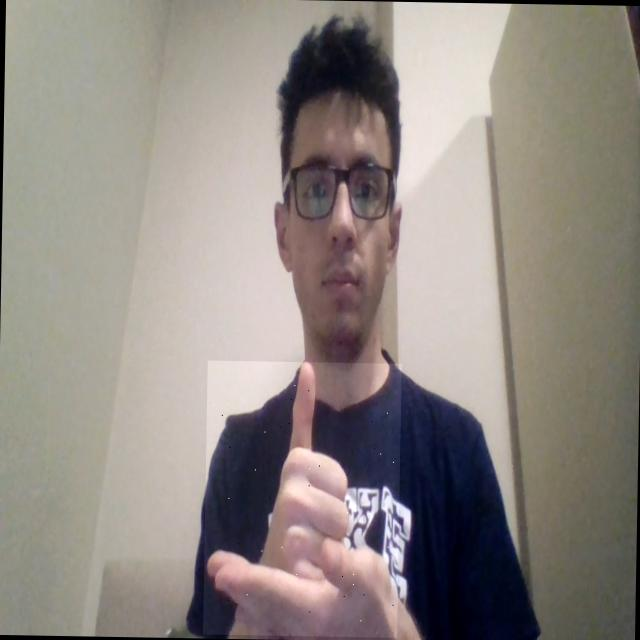help: (203, 360, 402, 637)
